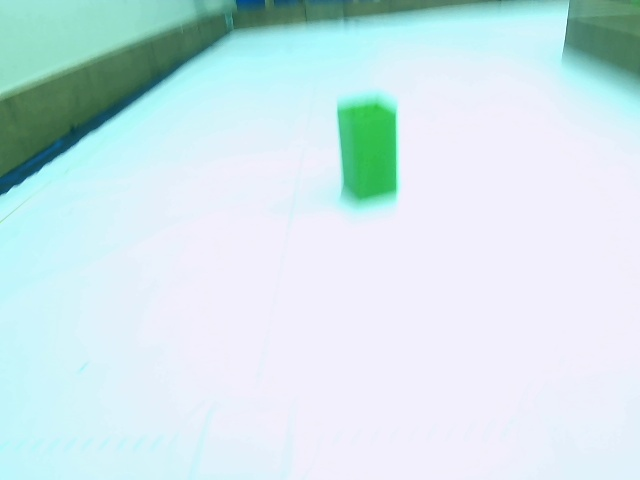green: (337, 103, 397, 196)
